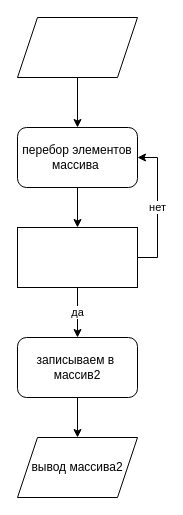
The diagram is 183 pixels wide and 515 high, and some of its shapes have lost their labels. The shapes that lost their labels are listed below. From the top down, each one's centre as x and y in pixels, then its label:
the point at 77,47: массив массив2
the point at 77,257: удовлетворяет ли условию?
